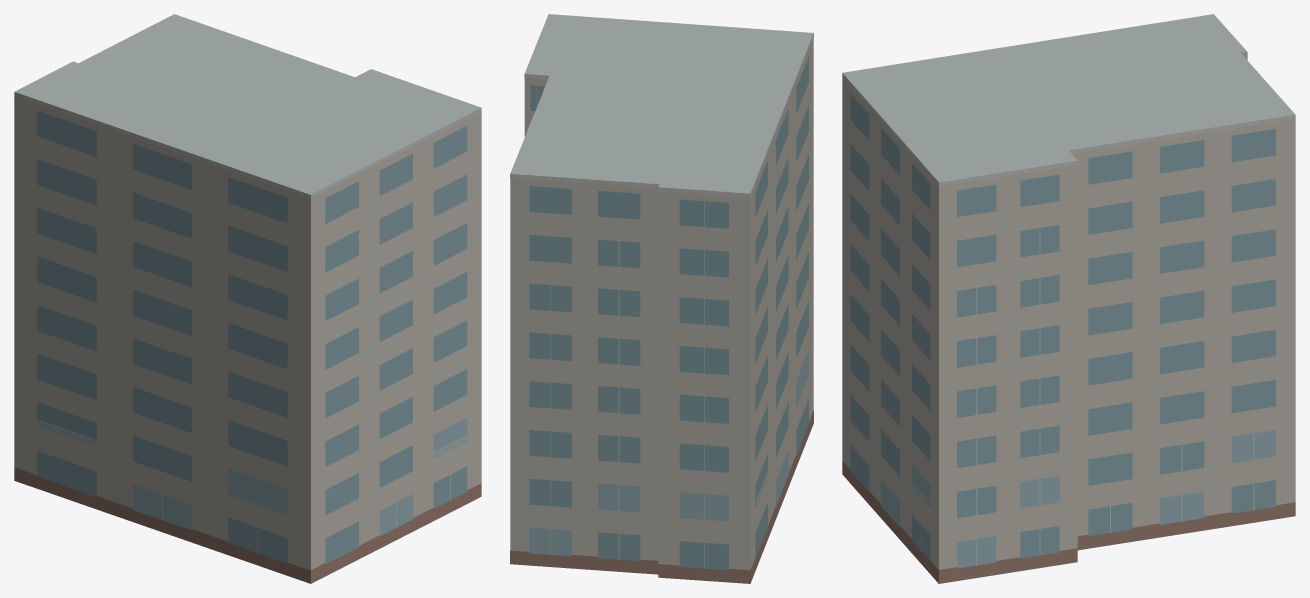
File: survey-upis-32945528.glb
3 views of the same model, side by side, from view 1: azimuth 30°, elevation 25°; view 2: azimuth 150°, elevation 25°; view 3: azimuth 270°, elevation 25° (orthographic). The views are drawn at different scales.
Visible parts, largest first — view 1: survey-upis-32945528.tmp; view 2: survey-upis-32945528.tmp; view 3: survey-upis-32945528.tmp.
Boxes of the visible parts, x1,y1,x2,y2 form: survey-upis-32945528.tmp: (14, 14, 481, 583); survey-upis-32945528.tmp: (510, 14, 813, 583); survey-upis-32945528.tmp: (842, 14, 1295, 583).
Bounding box in the file's own units: 21.32 × 23.7 × 24.25.
